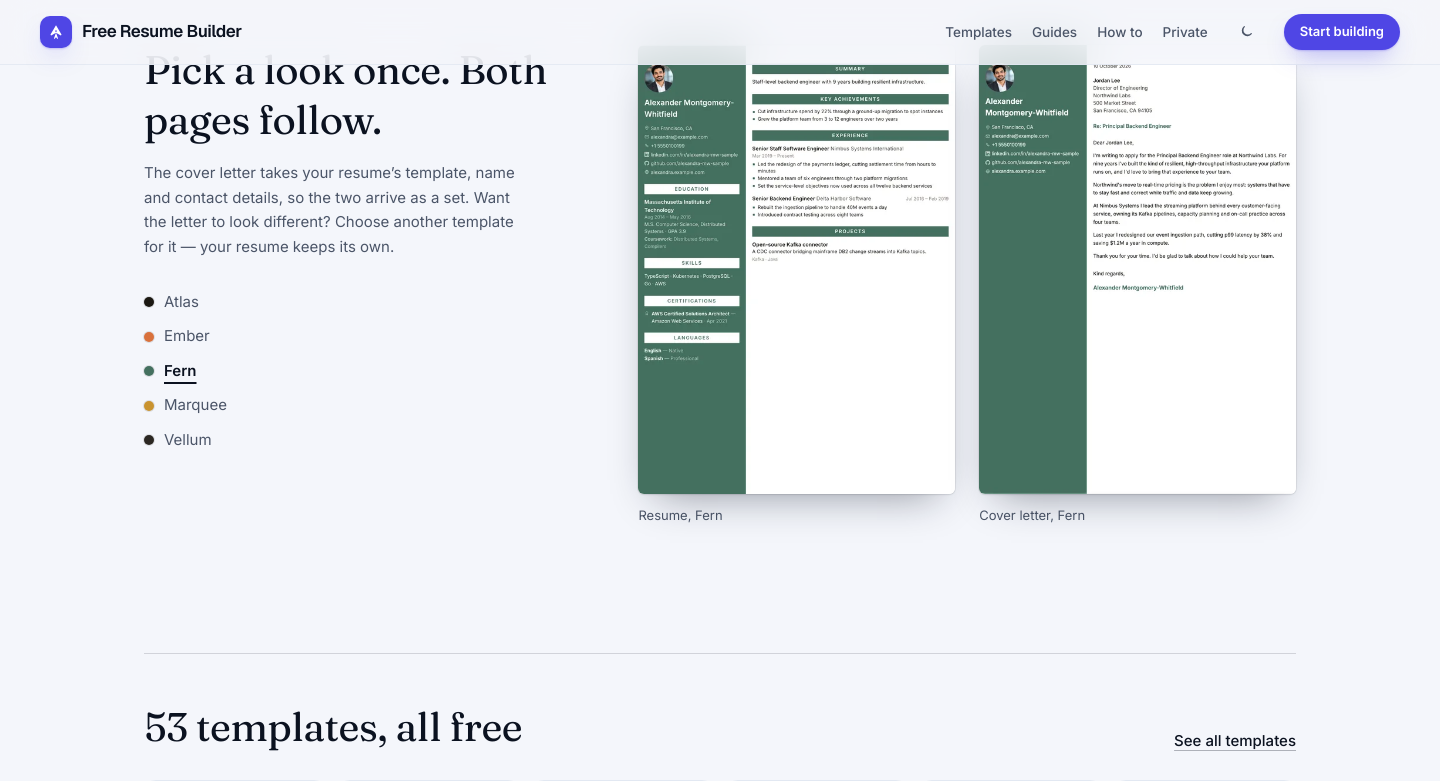
Scenario: homepage › shows a resume and its cover letter as a matching set, restyled together
This screenshot has width=1440, height=781.
(page scrolled)
Expected: the picture named "Resume in the Fern template" is shown, [638,45,955,494]
Expected: the picture named "Cover letter in the Fern template" is shown, [979,45,1296,494]
Step 1. Click the radio button labelled "Marquee" → (195, 405), box [144,390,582,421]
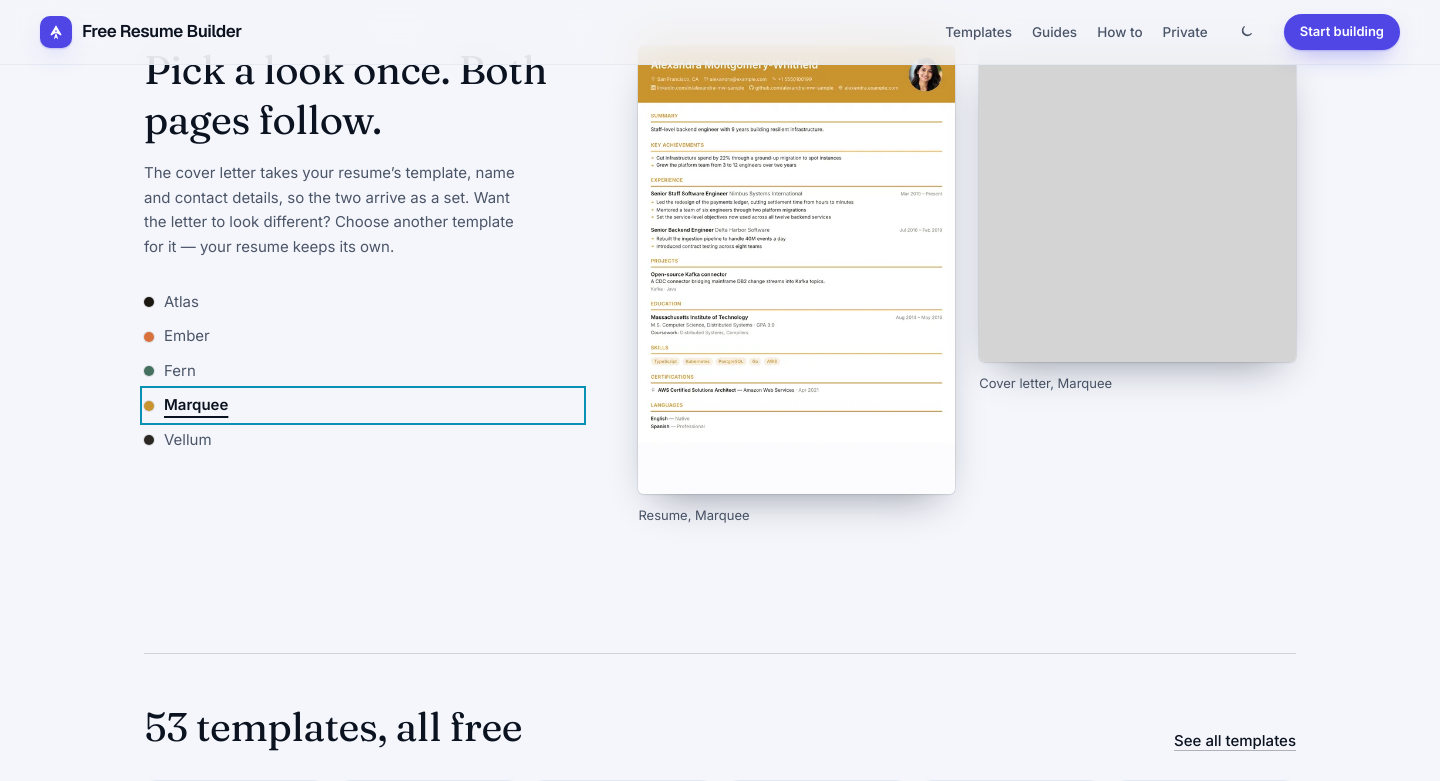
Now the picture named "Resume in the Marquee template" is shown, box [638,45,955,494]
